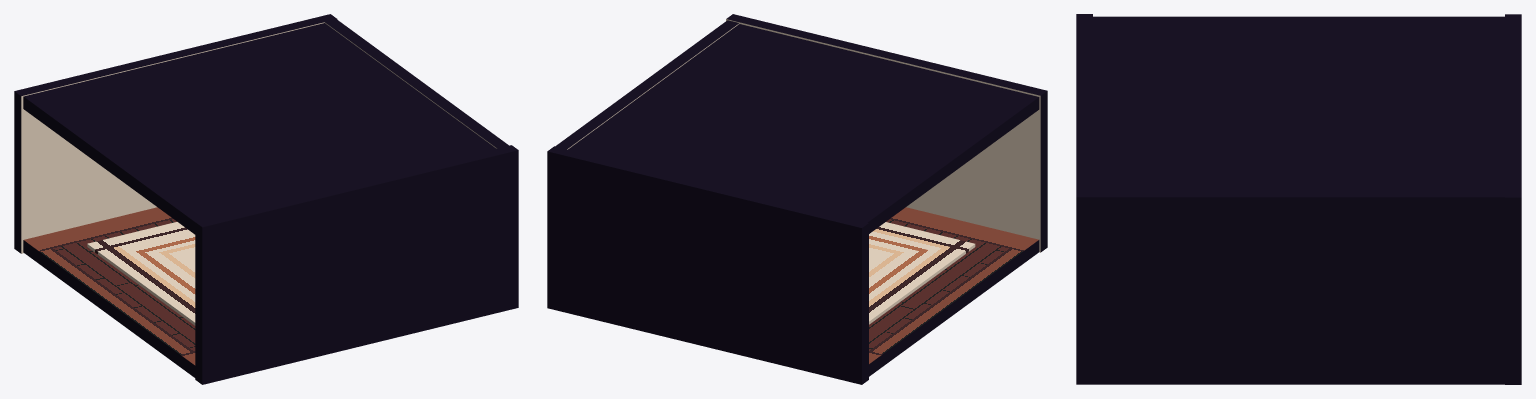
The model's file is DojoInterior.gltf.
3 renders of one model, left to right at view 1: azimuth 30°, elevation 25°; view 2: azimuth 150°, elevation 25°; view 3: azimuth 270°, elevation 25°, orthographic. The views are drawn at different scales.
Visible parts, largest first — view 1: Interior, TrainingMat; view 2: Interior, TrainingMat; view 3: Interior.
Boxes of the visible parts, x1,y1,x2,y2 form: Interior: (14, 14, 518, 384); TrainingMat: (87, 222, 195, 325); Interior: (547, 14, 1047, 384); TrainingMat: (869, 222, 975, 324); Interior: (1076, 14, 1521, 384).
Size of the model in its own units: 6.58 by 3.14 by 6.73.
Materials: 3 (3 with a texture image).
